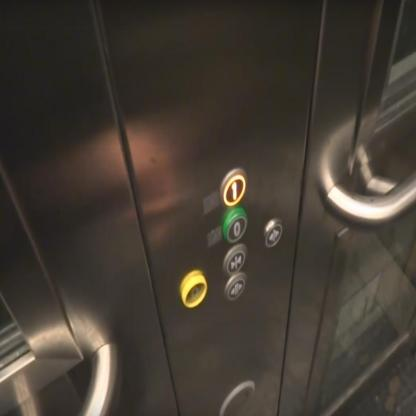0: (222, 208, 247, 244)
1: (218, 166, 247, 208)
alarm: (180, 271, 208, 309)
close: (222, 245, 247, 274)
open: (224, 273, 247, 302), (262, 216, 281, 249)
